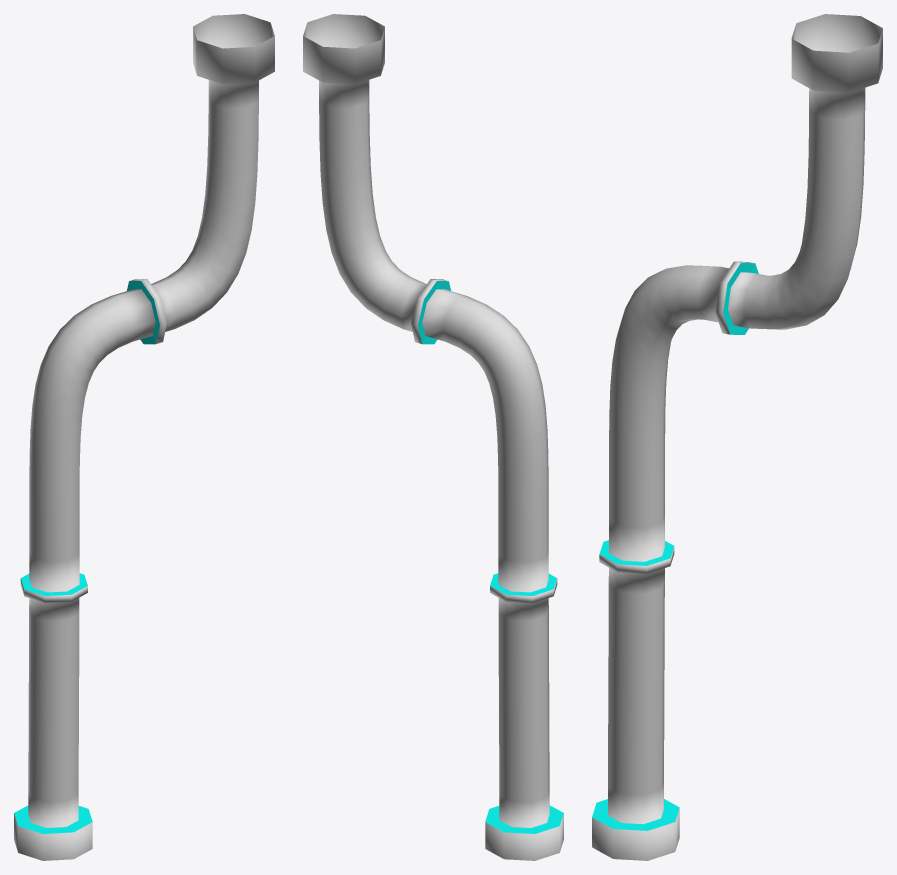
The model's file is BuildingP1.fbx.
3 renders of one model, left to right at view 1: azimuth 30°, elevation 25°; view 2: azimuth 150°, elevation 25°; view 3: azimuth 330°, elevation 25°, orthographic. The views are drawn at different scales.
Visible parts, largest first — view 1: P1; view 2: P1; view 3: P1.
Boxes of the visible parts, x1,y1,x2,y2 form: P1: [14, 14, 274, 860]; P1: [303, 14, 563, 860]; P1: [592, 14, 882, 860].
Size of the model in its own units: 676 by 1967 by 197.
